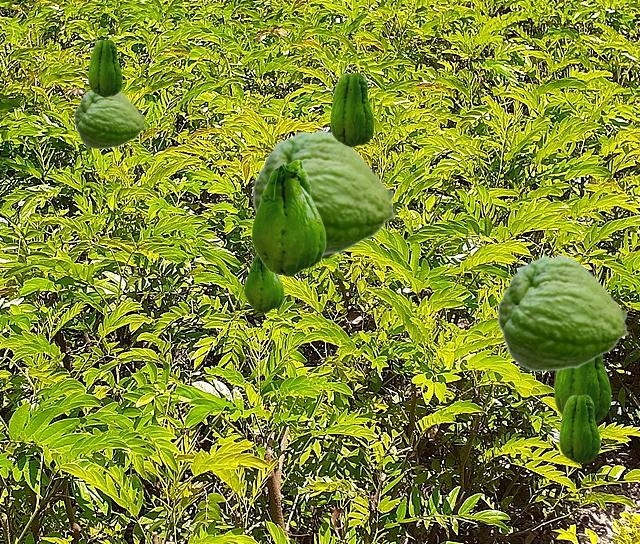sayote: (252, 129, 396, 257), (497, 254, 629, 371), (251, 159, 325, 276), (74, 90, 145, 148), (554, 355, 610, 422), (330, 72, 373, 146), (559, 394, 599, 462), (244, 254, 283, 312), (88, 39, 121, 96)
